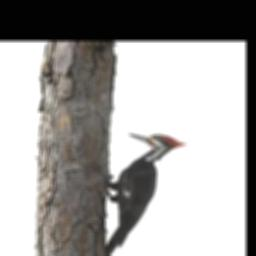Woodpecker: (106, 133, 188, 256)
